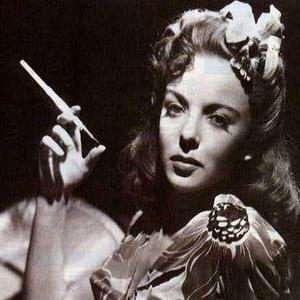cigarette: (20, 59, 100, 146)
